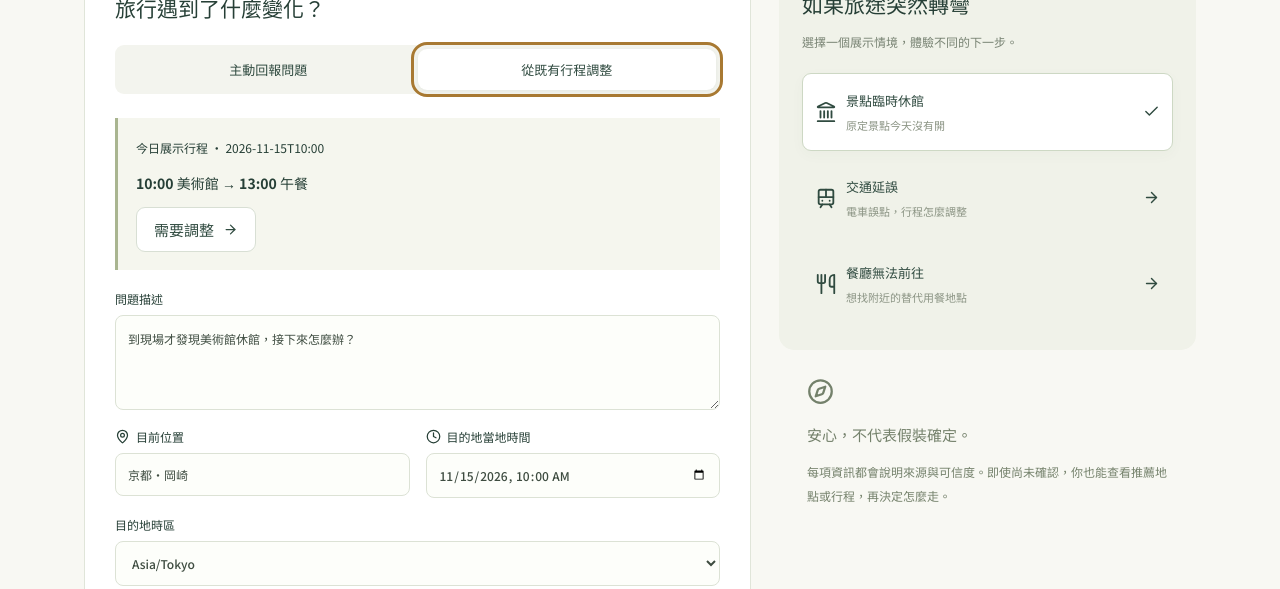
Test: itinerary entry, missing fields, no original plan, unsupported context
The image size is (1280, 589).
Earlier steps of the test are not shown.
(page scrolled)
Click the button "需要調整" at [196, 229], box 136,207 -> 256,252
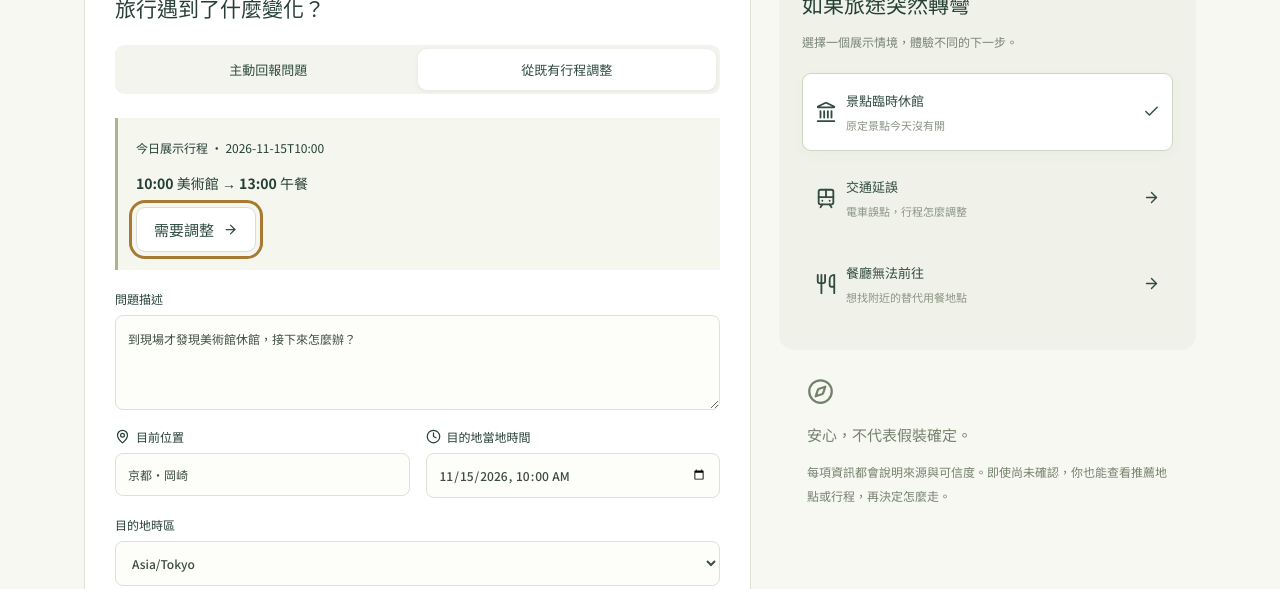
Clear the field labelled "目前位置" at [262, 474], box 115,453 -> 410,496
(page scrolled)
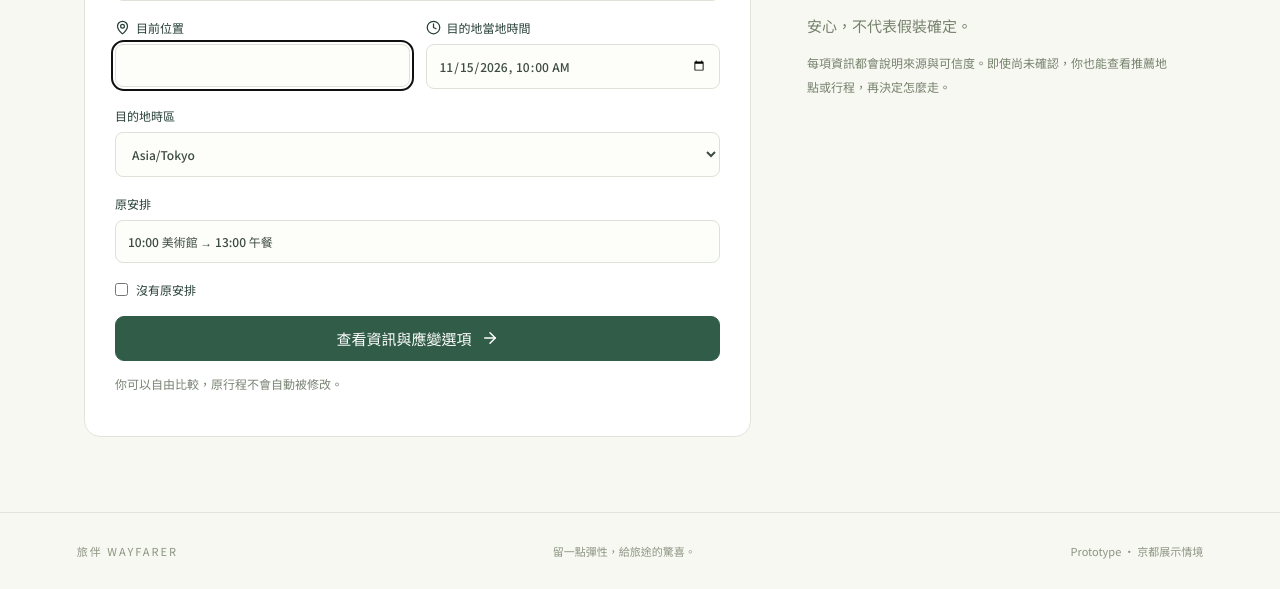
Click the button "查看資訊與應變選項" at [418, 338], box 115,316 -> 720,361
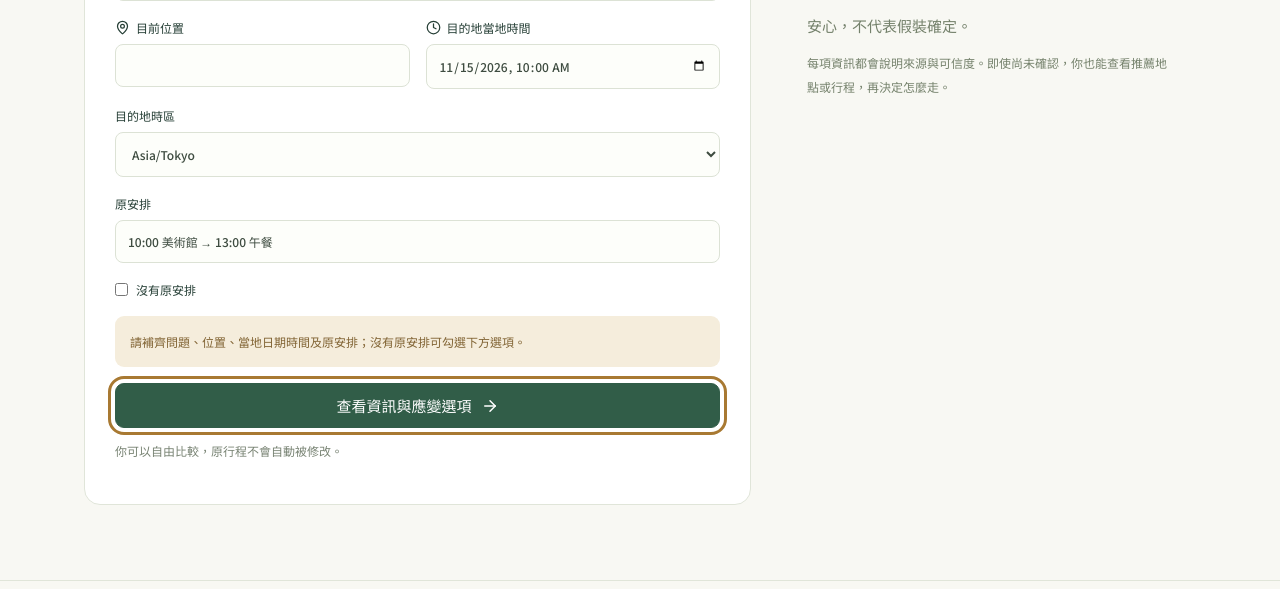
Expected: the message shows "請補齊", 115,316 -> 720,367
Type "Paris" into the field labelled "目前位置" at [262, 65], box 115,44 -> 410,87
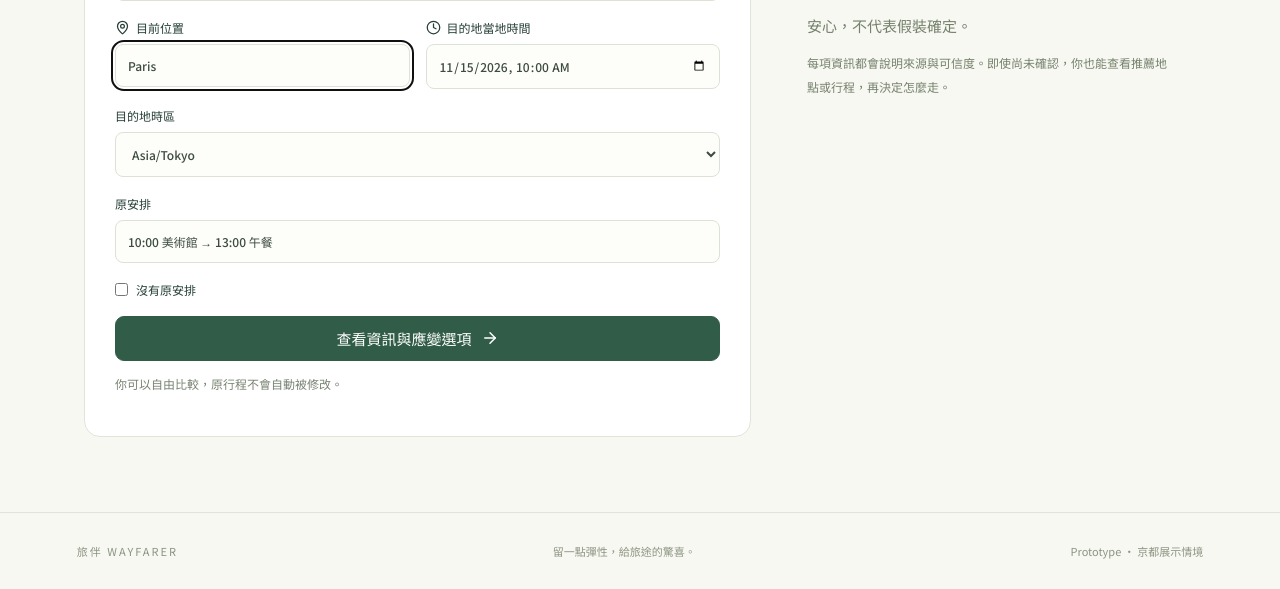
Click the checkbox labelled "沒有原安排" at [122, 289], box 115,283 -> 128,296
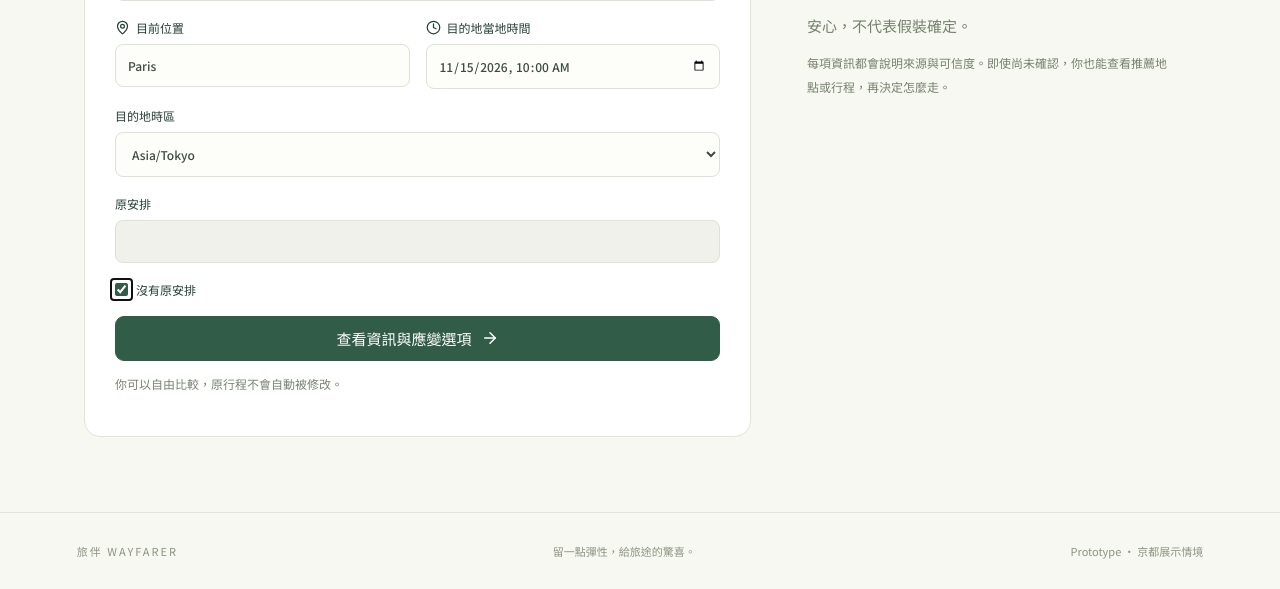
Click the button "查看資訊與應變選項" at [418, 338], box 115,316 -> 720,361
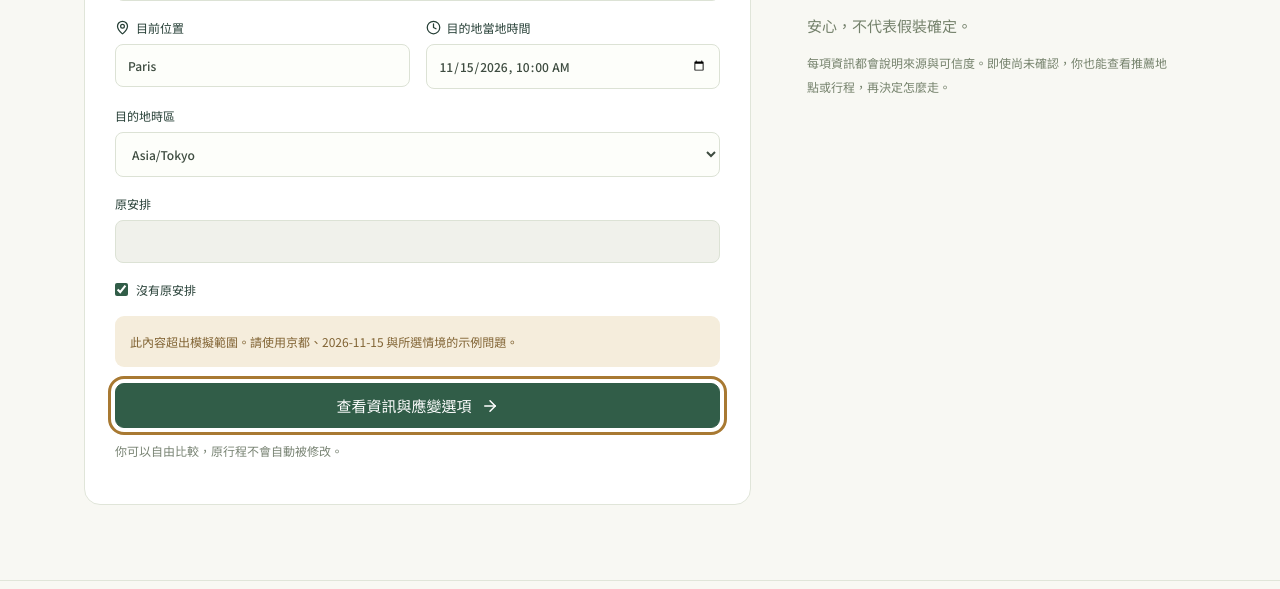
Expected: the message shows "超出模擬範圍", 130,333 -> 518,350
